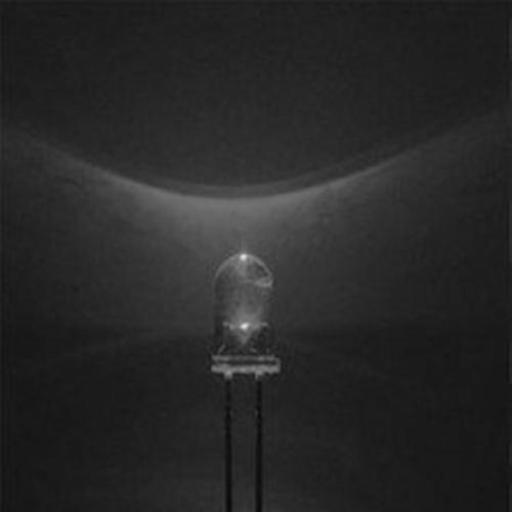LED: (151, 208, 398, 456)
